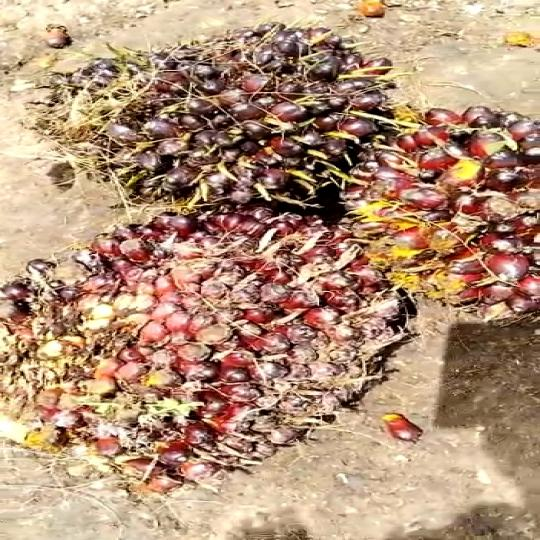kurang masak: (0, 200, 393, 498), (19, 27, 407, 213), (325, 105, 540, 323)
